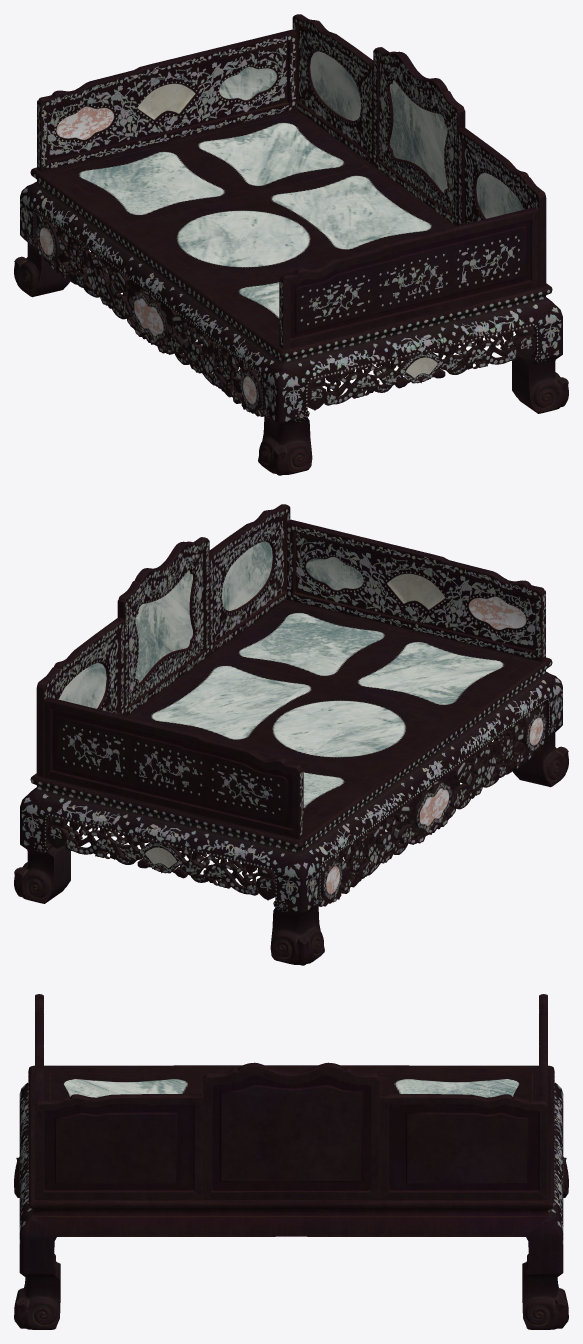
File: SM_Bed01B.fbx
3 renders of one model, top to bottom at view 1: azimuth 30°, elevation 25°; view 2: azimuth 150°, elevation 25°; view 3: azimuth 270°, elevation 25°, orthographic. The views are drawn at different scales.
Visible parts, largest first — view 1: SM_Bed01B; view 2: SM_Bed01B; view 3: SM_Bed01B.
Boxes of the visible parts, x1,y1,x2,y2 form: SM_Bed01B: (14, 14, 568, 475); SM_Bed01B: (14, 504, 568, 965); SM_Bed01B: (14, 994, 568, 1329).
Bounding box in the file's own units: 134 × 208 × 107.
